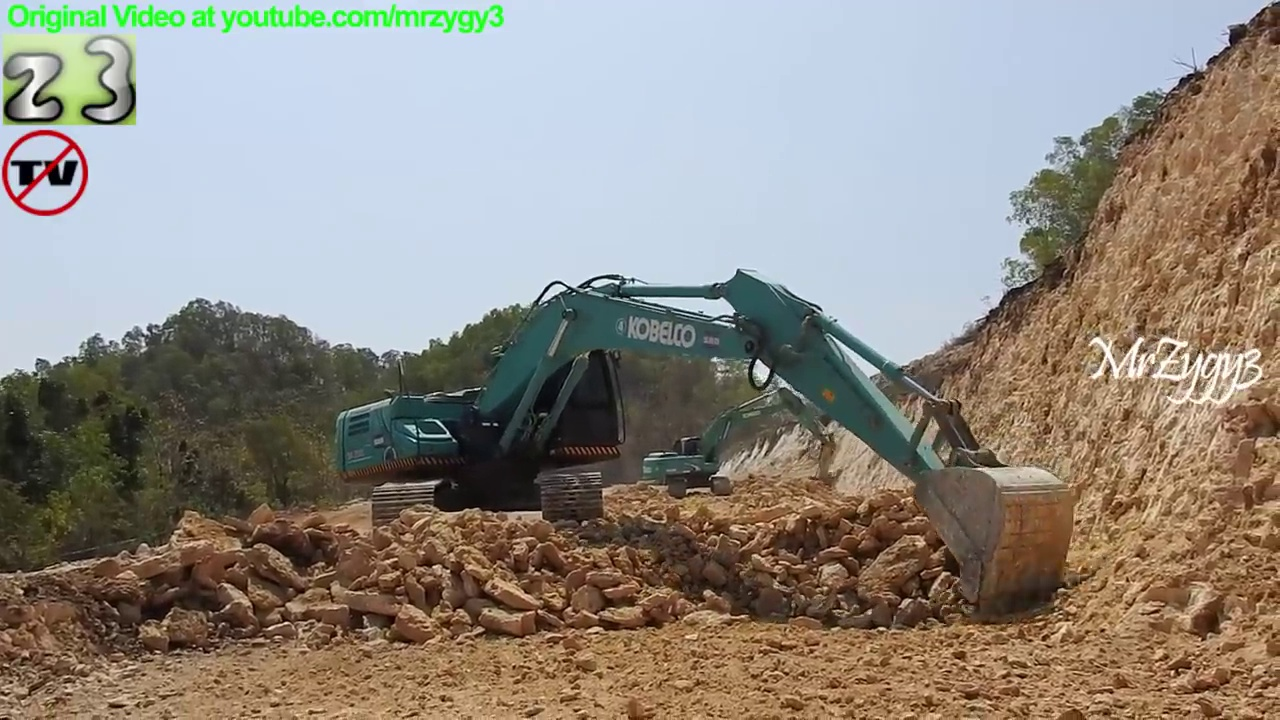excavator: (333, 265, 1079, 620)
excavator breaker: (638, 383, 841, 502)
